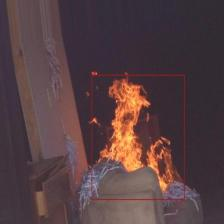fire: (92, 74, 184, 200)
